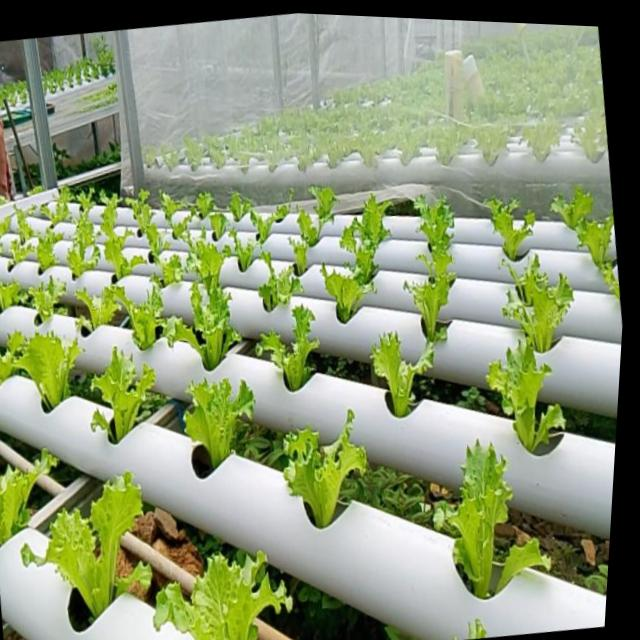Baby: (17, 471, 147, 614), (149, 551, 286, 640), (428, 441, 503, 599), (278, 412, 362, 530), (478, 342, 556, 455), (399, 200, 449, 353), (178, 381, 250, 480), (496, 259, 564, 356), (86, 350, 150, 445), (10, 330, 79, 411), (251, 308, 314, 394), (366, 335, 427, 420), (99, 283, 170, 353), (335, 199, 386, 287), (240, 256, 298, 315), (565, 217, 611, 289), (315, 269, 370, 327), (478, 202, 527, 265), (62, 196, 96, 281), (181, 235, 226, 298), (35, 188, 66, 226), (30, 229, 56, 272), (155, 256, 179, 288), (9, 209, 29, 246), (164, 214, 187, 244)
